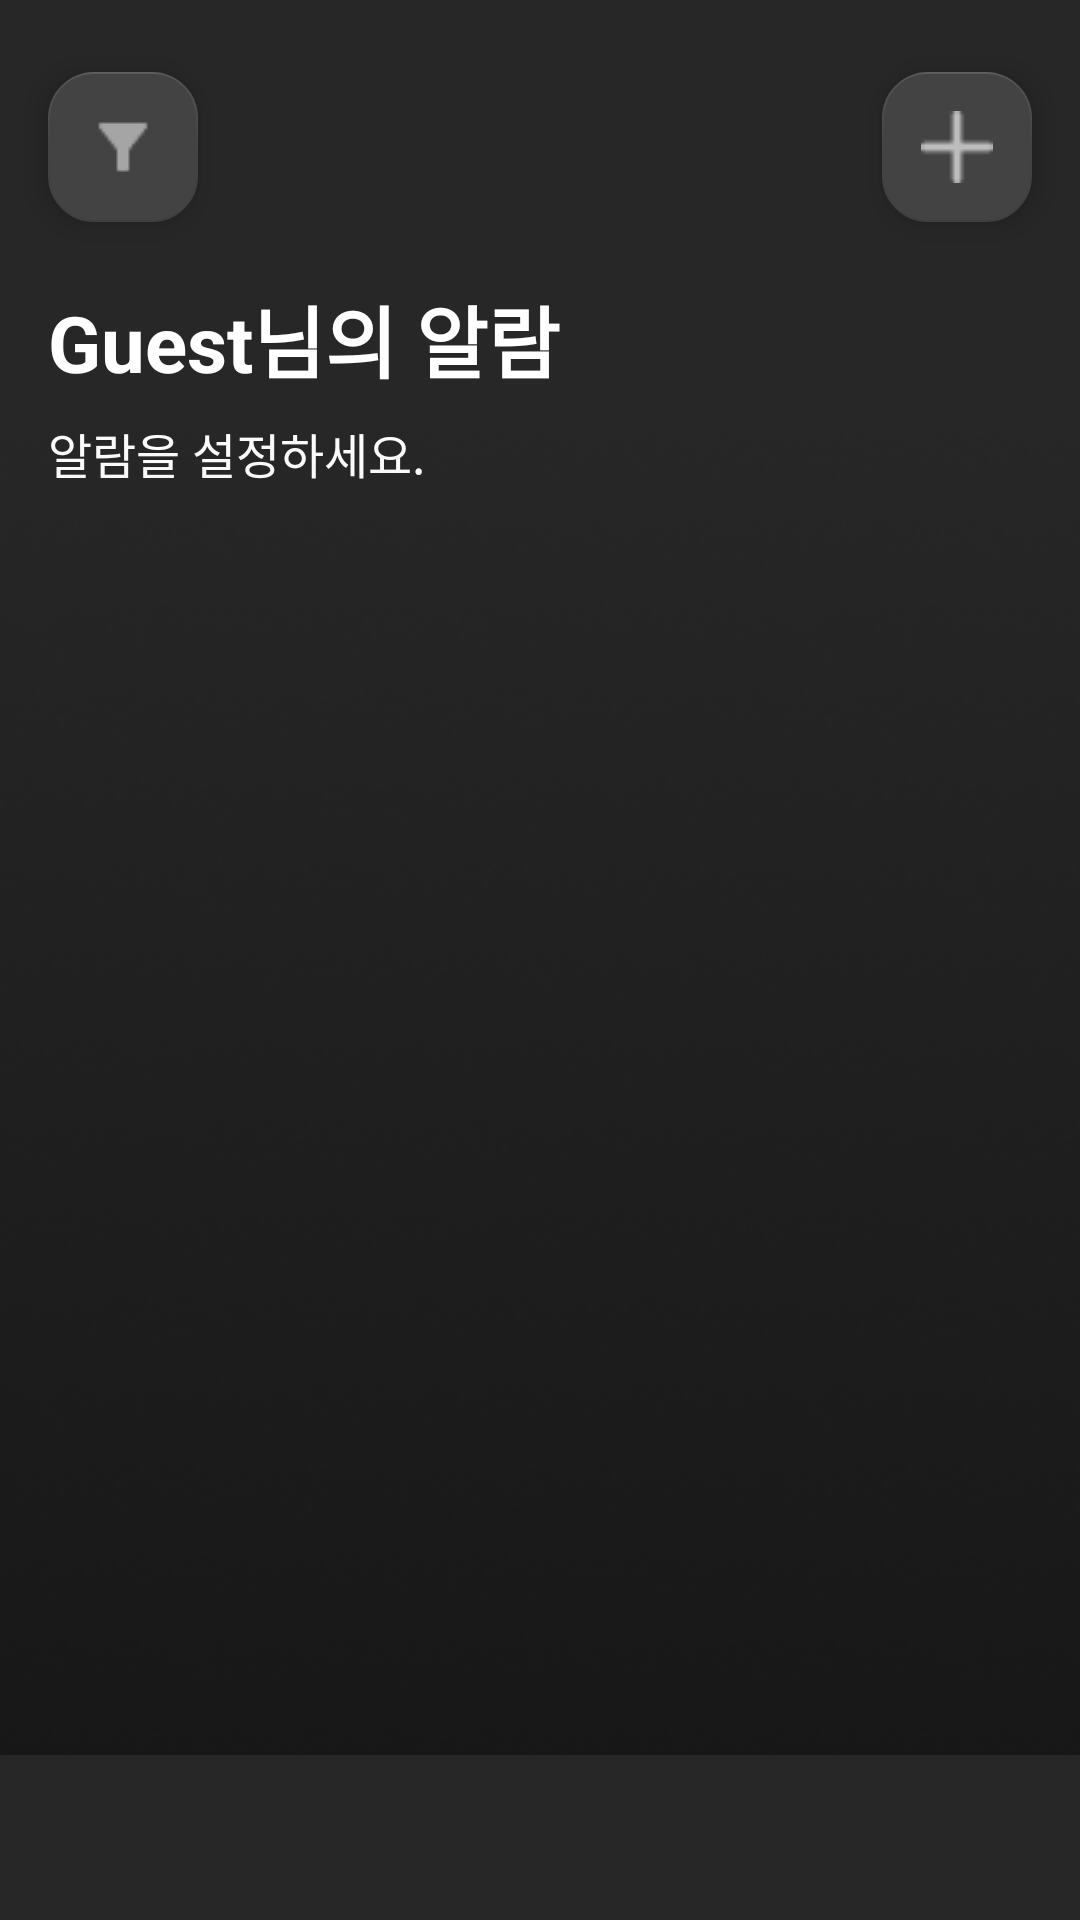

Point at icon controls on the screen. Image size 1080px x 1920px, points as (x,y).
fab filter: (123,147)
